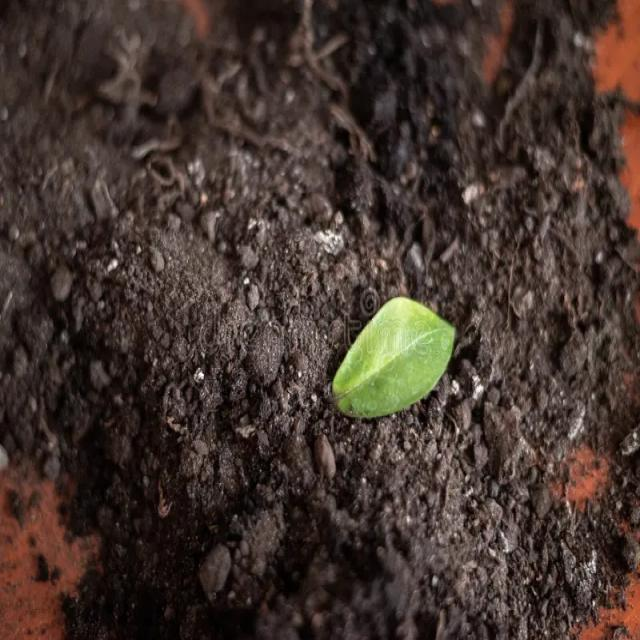suelo_humedo: (107, 143, 592, 593)
